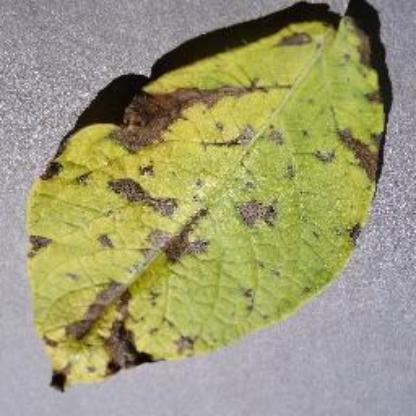Early-Blight: (28, 9, 392, 393)
